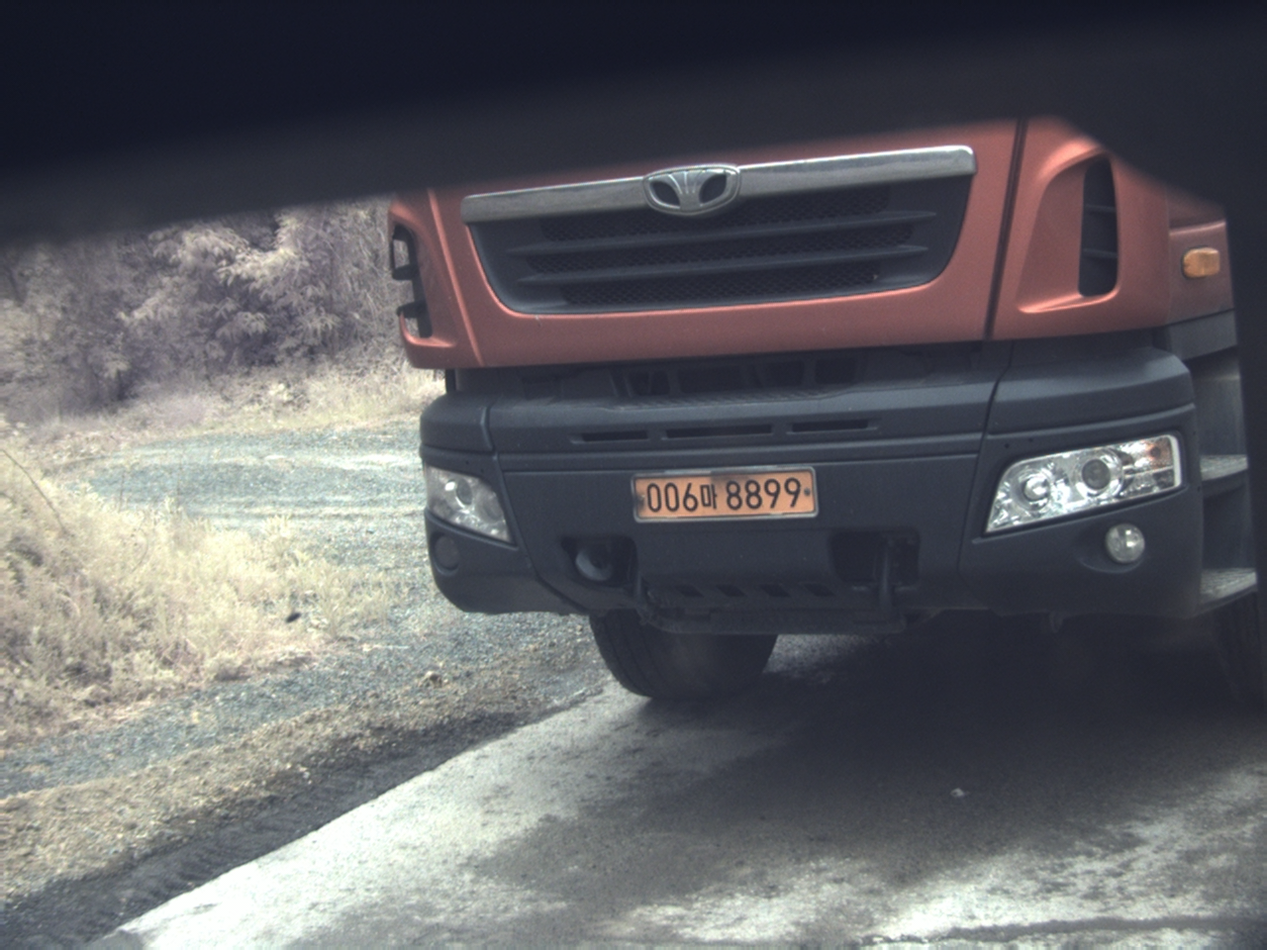license_plate: (634, 469, 817, 521)
truck: (391, 119, 1262, 703)
